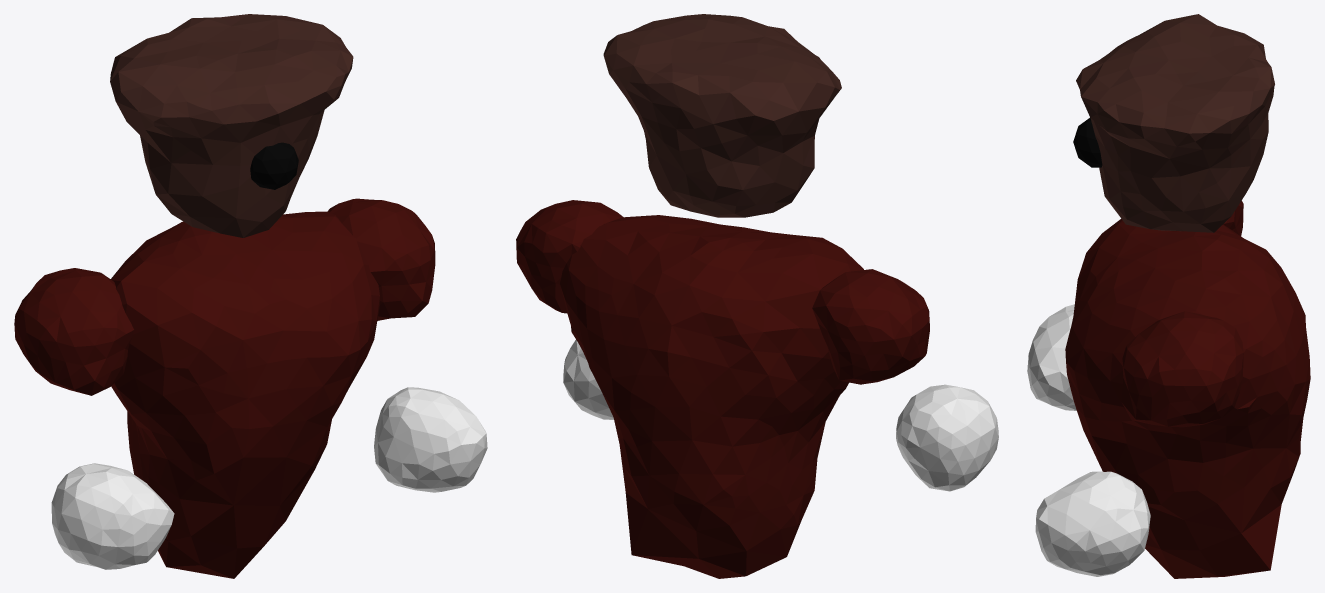
Rendered from boss.fbx.
3 views of the same model, side by side, from view 1: azimuth 30°, elevation 25°; view 2: azimuth 150°, elevation 25°; view 3: azimuth 270°, elevation 25° (orthographic).
Visible parts, largest first — view 1: body, head, shoulder, hand, hand.001, shoulder.001, eye; view 2: body, head, shoulder, hand, shoulder.001, hand.001; view 3: body, head, shoulder.001, hand.001, hand, eye, shoulder.
Boxes of the visible parts, left/top/right/bottom form: body: left=111, top=211, right=379, bottom=578; head: left=110, top=14, right=353, bottom=237; shoulder: left=14, top=268, right=133, bottom=395; hand: left=51, top=463, right=174, bottom=569; hand.001: left=374, top=387, right=487, bottom=492; shoulder.001: left=327, top=198, right=435, bottom=320; eye: left=250, top=142, right=298, bottom=189; body: left=560, top=215, right=863, bottom=578; head: left=603, top=14, right=841, bottom=217; shoulder: left=812, top=269, right=929, bottom=384; hand: left=896, top=384, right=998, bottom=491; shoulder.001: left=516, top=200, right=623, bottom=313; hand.001: left=563, top=340, right=613, bottom=419; body: left=1065, top=218, right=1310, bottom=578; head: left=1076, top=14, right=1274, bottom=232; shoulder.001: left=1121, top=311, right=1243, bottom=427; hand.001: left=1035, top=471, right=1150, bottom=576; hand: left=1027, top=304, right=1076, bottom=410; eye: left=1073, top=117, right=1102, bottom=167; shoulder: left=1223, top=200, right=1243, bottom=235.
Bounding box in the file's own units: 4998 × 5986 × 2945.
